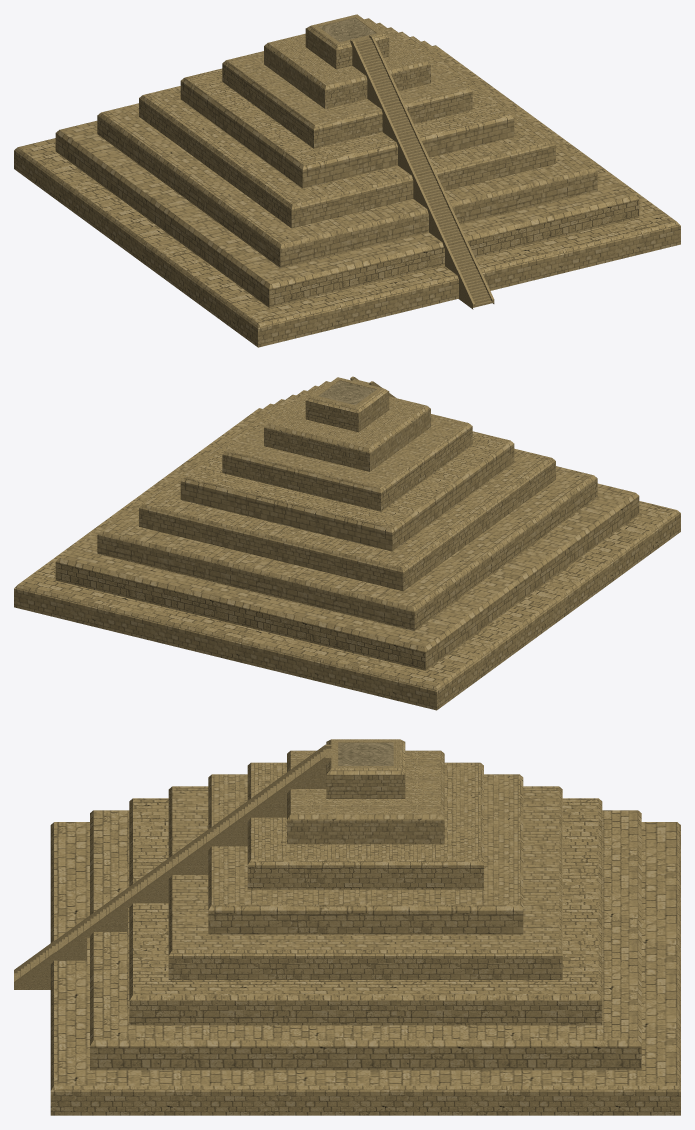
The model's file is Prophet_Temple02.FBX.
The picture shows the model from 3 angles, top to bottom: view 1: azimuth 30°, elevation 25°; view 2: azimuth 150°, elevation 25°; view 3: azimuth 270°, elevation 25°; orthographic projection. The views are drawn at different scales.
Visible parts, largest first — view 1: Prophet_Temple, Object001, Object008, Object007, Object004, Object003, Object005, Object002, Object006; view 2: Prophet_Temple; view 3: Prophet_Temple, Object001, Object007, Object003, Object004, Object008, Object002, Object005, Object006.
Boxes of the visible parts, bbox=[...] form: Prophet_Temple: bbox=[14, 14, 680, 347]; Object001: bbox=[381, 99, 417, 143]; Object008: bbox=[457, 264, 494, 309]; Object007: bbox=[365, 64, 401, 108]; Object004: bbox=[413, 169, 449, 213]; Object003: bbox=[397, 134, 433, 178]; Object005: bbox=[429, 203, 465, 248]; Object002: bbox=[350, 35, 386, 74]; Object006: bbox=[445, 238, 478, 282]; Prophet_Temple: bbox=[14, 377, 680, 710]; Prophet_Temple: bbox=[50, 739, 680, 1115]; Object001: bbox=[210, 799, 250, 847]; Object007: bbox=[251, 769, 292, 817]; Object003: bbox=[169, 828, 209, 877]; Object004: bbox=[128, 858, 168, 907]; Object008: bbox=[14, 940, 55, 989]; Object002: bbox=[292, 744, 331, 788]; Object005: bbox=[87, 888, 127, 937]; Object006: bbox=[45, 918, 86, 967].
Size of the model in its own units: 3200 by 1300 by 3386.
